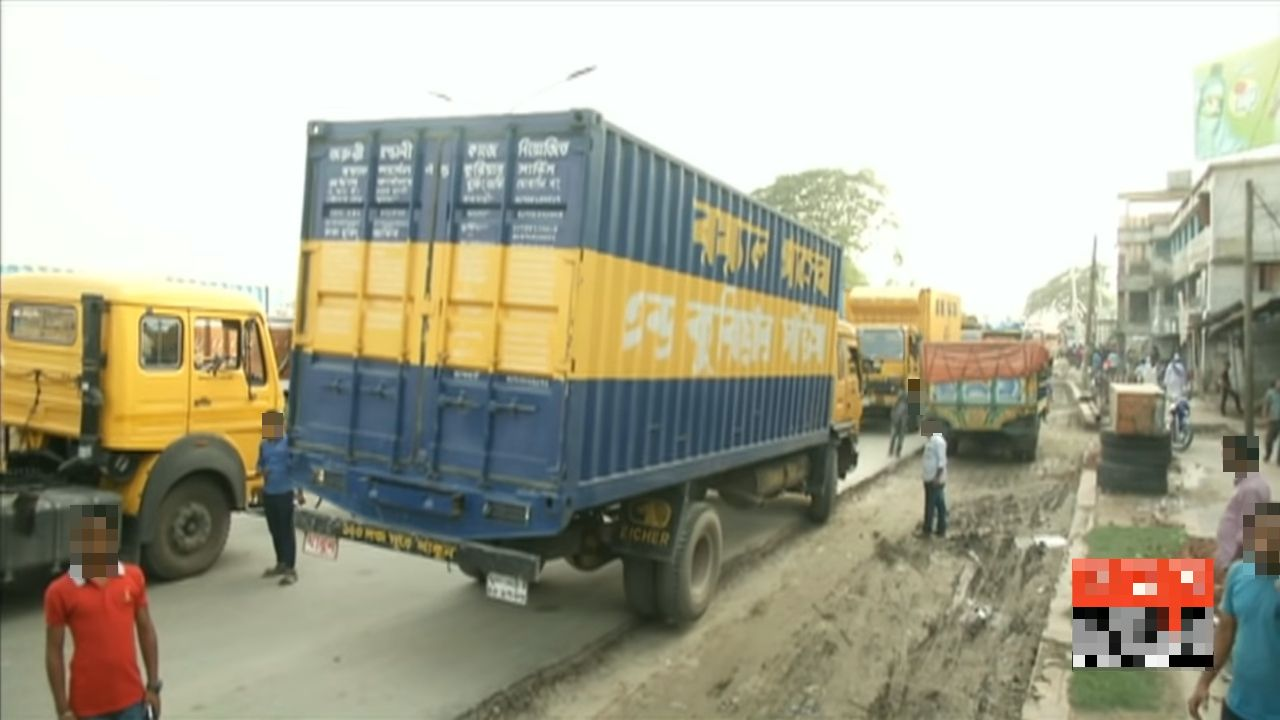truck: (311, 93, 859, 633), (9, 275, 290, 601), (852, 289, 986, 428), (928, 330, 1051, 467)
